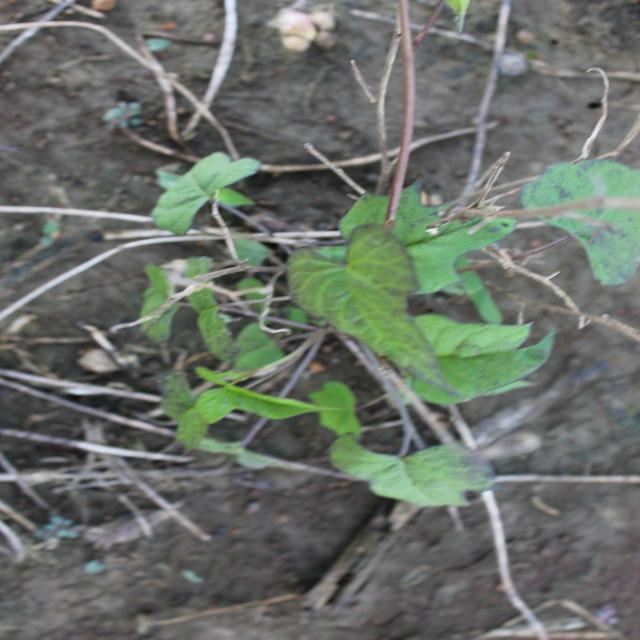MorningGlory: (134, 150, 637, 508)
